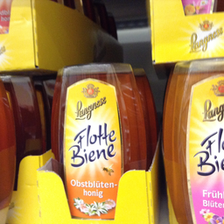honey: (49, 65, 151, 219)
